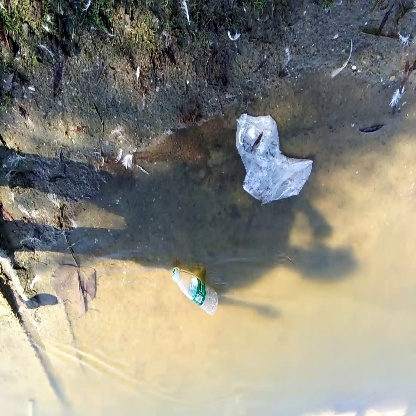bottle: (167, 263, 226, 320)
